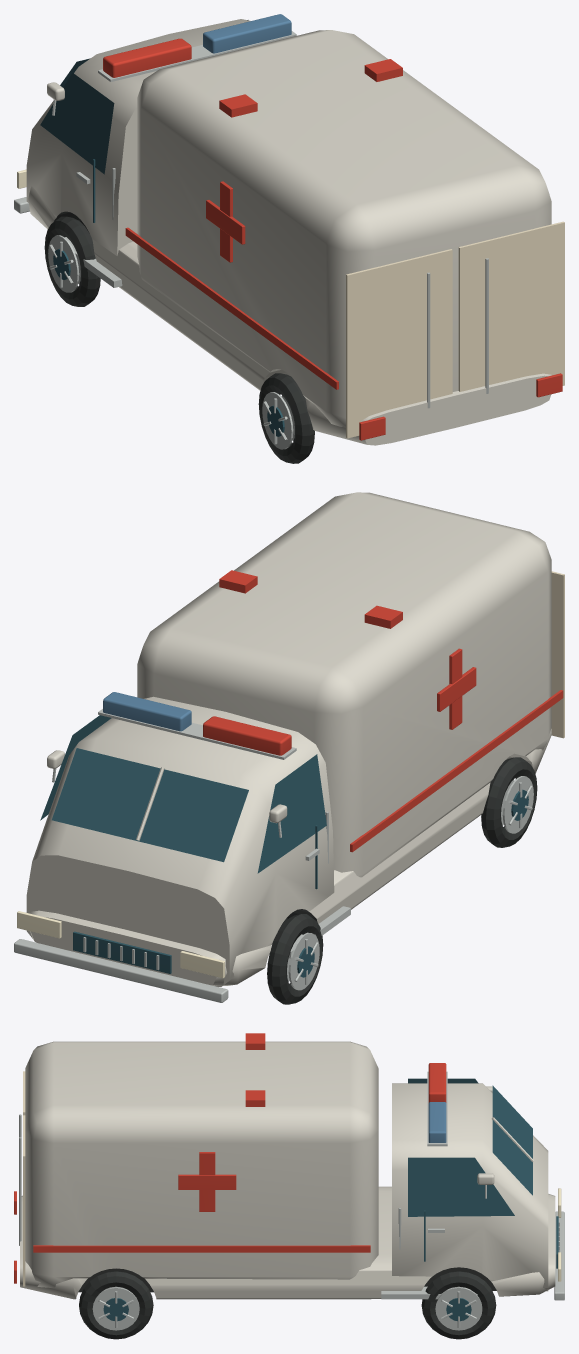
Rendered from ambulance_detail.glb.
3 views of the same model, one above another, from view 1: azimuth 30°, elevation 25°; view 2: azimuth 150°, elevation 25°; view 3: azimuth 270°, elevation 25° (orthographic). The views are drawn at different scales.
Visible parts, largest first — view 1: AmbulanceModel traffic_white, AmbulanceModel traffic_cream, AmbulanceModel traffic_red, AmbulanceModel traffic_glass, AmbulanceModel traffic_metal, Rounded road tire, Rounded road tire.001, Emergency beacon.001, Spin traffic_metal, Spin.001 traffic_metal; view 2: AmbulanceModel traffic_white, AmbulanceModel traffic_glass, AmbulanceModel traffic_red, AmbulanceModel traffic_metal, Rounded road tire.001, Rounded road tire, AmbulanceModel traffic_cream, Emergency beacon.001, AmbulanceModel traffic_light, Spin traffic_metal, Spin.001 traffic_metal; view 3: AmbulanceModel traffic_white, AmbulanceModel traffic_glass, AmbulanceModel traffic_red, Rounded road tire.002, Rounded road tire.003, AmbulanceModel traffic_metal, Spin.002 traffic_metal, Spin.003 traffic_metal, Emergency beacon.001, AmbulanceModel traffic_cream, Spin.003 traffic_glass, Spin.002 traffic_glass.
Boxes of the visible parts, box(x1,y1,x2,y2) form: AmbulanceModel traffic_white: box(26, 19, 551, 445); AmbulanceModel traffic_cream: box(346, 221, 564, 438); AmbulanceModel traffic_red: box(103, 38, 562, 440); AmbulanceModel traffic_glass: box(40, 20, 248, 222); AmbulanceModel traffic_metal: box(14, 31, 488, 408); Rounded road tire: box(258, 373, 314, 463); Rounded road tire.001: box(44, 216, 100, 306); Emergency beacon.001: box(203, 14, 291, 53); Spin traffic_metal: box(262, 392, 294, 449); Spin.001 traffic_metal: box(48, 235, 80, 292); AmbulanceModel traffic_white: box(26, 492, 551, 986); AmbulanceModel traffic_glass: box(40, 715, 326, 973); AmbulanceModel traffic_red: box(203, 570, 563, 852); AmbulanceModel traffic_metal: box(14, 709, 350, 1002); Rounded road tire.001: box(267, 914, 323, 1004); Rounded road tire: box(481, 757, 537, 847); AmbulanceModel traffic_cream: box(551, 571, 564, 738); Emergency beacon.001: box(103, 692, 191, 731); AmbulanceModel traffic_light: box(17, 911, 224, 978); Spin traffic_metal: box(501, 776, 533, 833); Spin.001 traffic_metal: box(287, 932, 319, 990); AmbulanceModel traffic_white: box(20, 1041, 555, 1299); AmbulanceModel traffic_glass: box(408, 1078, 558, 1268); AmbulanceModel traffic_red: box(14, 1033, 446, 1283); Rounded road tire.002: box(79, 1271, 153, 1339); Rounded road tire.003: box(421, 1271, 496, 1339); AmbulanceModel traffic_metal: box(19, 1071, 564, 1300); Spin.002 traffic_metal: box(92, 1286, 139, 1330); Spin.003 traffic_metal: box(435, 1286, 482, 1330); Emergency beacon.001: box(428, 1102, 446, 1142); AmbulanceModel traffic_cream: box(23, 1071, 25, 1286); Spin.003 traffic_glass: box(446, 1298, 471, 1321); Spin.002 traffic_glass: box(103, 1298, 128, 1321).
Size of the model in its own units: 2.35 by 2.59 by 5.66.
